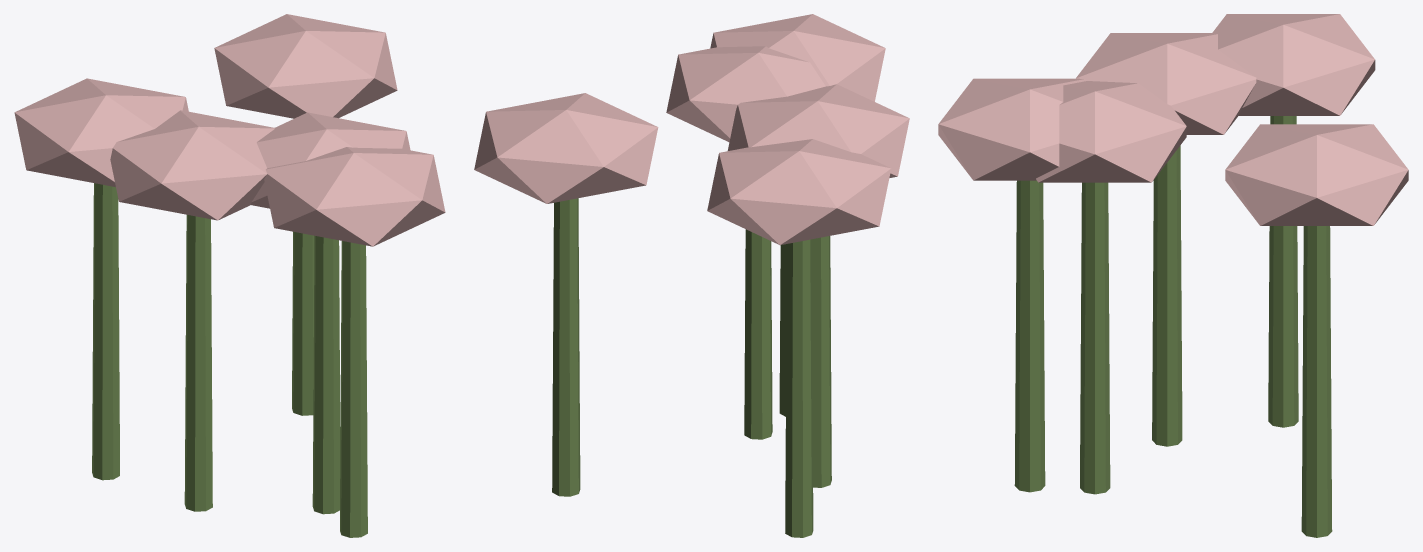
File: prop_flowers.glb
3 renders of one model, left to right at view 1: azimuth 30°, elevation 25°; view 2: azimuth 150°, elevation 25°; view 3: azimuth 270°, elevation 25°, orthographic. The views are drawn at different scales.
Parts seen in each view (by area): view 1: Geometry; view 2: Geometry; view 3: Geometry.
Part boxes in pixels (x1,y1,x2,y2): Geometry: (14, 14, 445, 537); Geometry: (474, 14, 909, 537); Geometry: (938, 14, 1408, 537).
Bounding box in the file's own units: 0.3577 × 0.345 × 0.3708.
